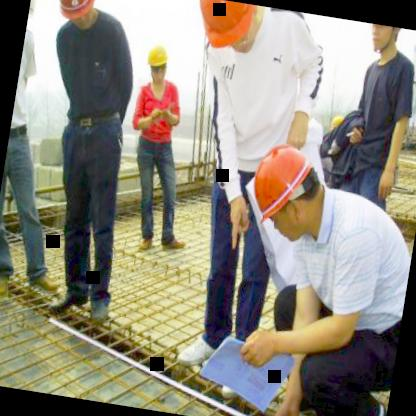helmet: (228, 129, 334, 244), (181, 0, 261, 64), (141, 36, 173, 90), (362, 22, 406, 58), (49, 0, 100, 25), (26, 0, 39, 30)
